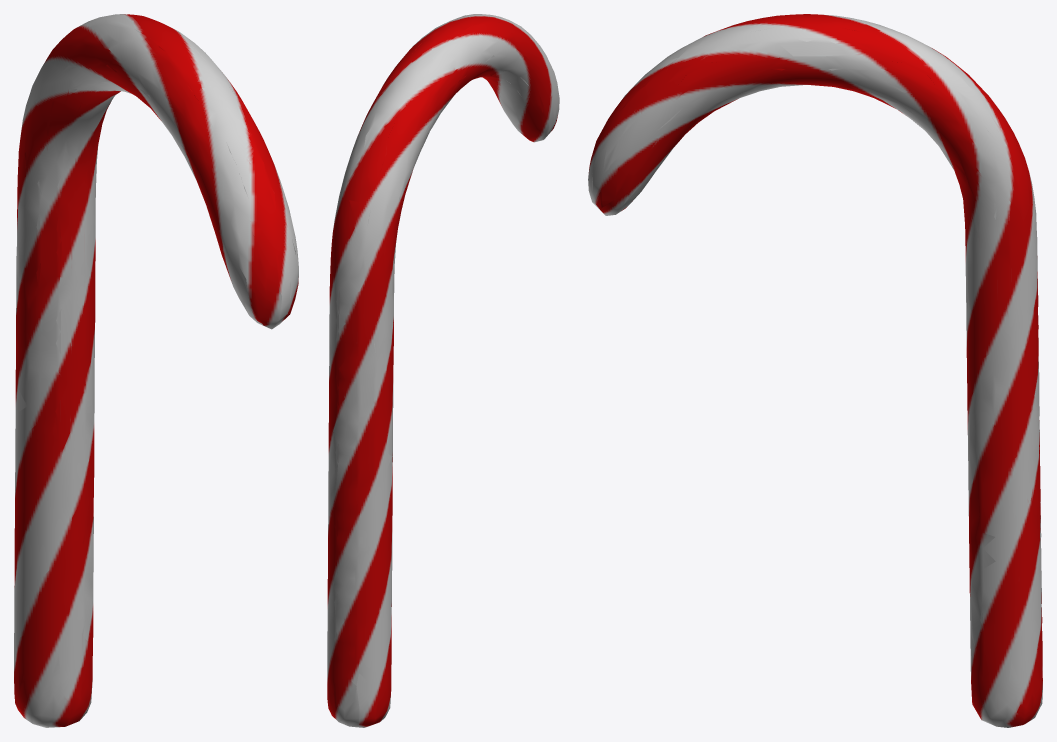
Rendered from candy_cane.glb.
3 renders of one model, left to right at view 1: azimuth 30°, elevation 25°; view 2: azimuth 150°, elevation 25°; view 3: azimuth 270°, elevation 25°, orthographic. The views are drawn at different scales.
Visible parts, largest first — view 1: mesh; view 2: mesh; view 3: mesh.
Boxes of the visible parts, <box> form: mesh: <box>14,14,298,727</box>; mesh: <box>327,14,559,727</box>; mesh: <box>588,14,1042,727</box>.
Bounding box in the file's own units: 0.1496 × 1.6 × 0.9361.
1 material, 1 textured.
